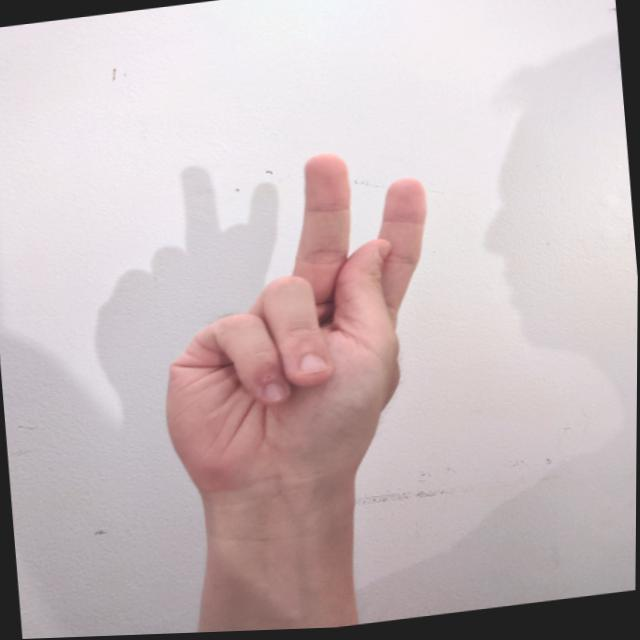K: (134, 139, 460, 534)
